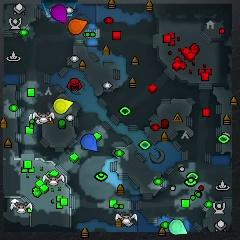p1: (82, 134, 98, 152)
p2: (169, 219, 188, 235)
p3: (51, 5, 67, 24)
p4: (54, 99, 73, 114)
p5: (68, 19, 88, 34)
